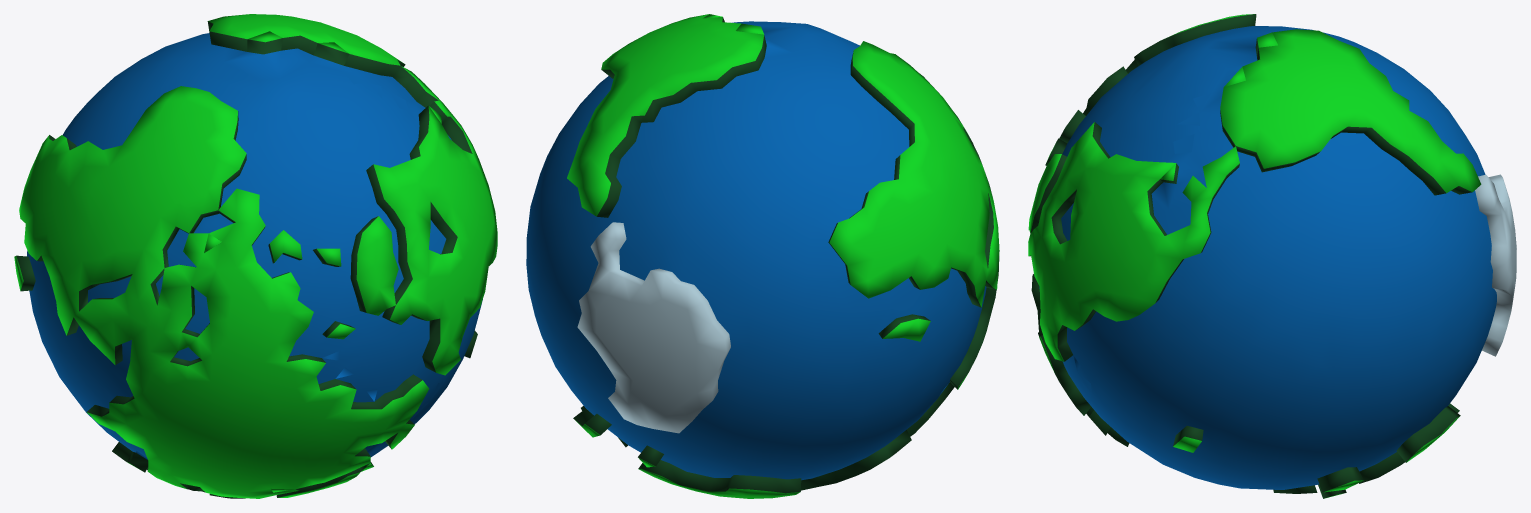
The model's file is Globe.gltf.
The picture shows the model from 3 angles, left to right: view 1: azimuth 30°, elevation 25°; view 2: azimuth 150°, elevation 25°; view 3: azimuth 270°, elevation 25°; orthographic projection.
Size of the model in its own units: 115 by 119 by 118.
